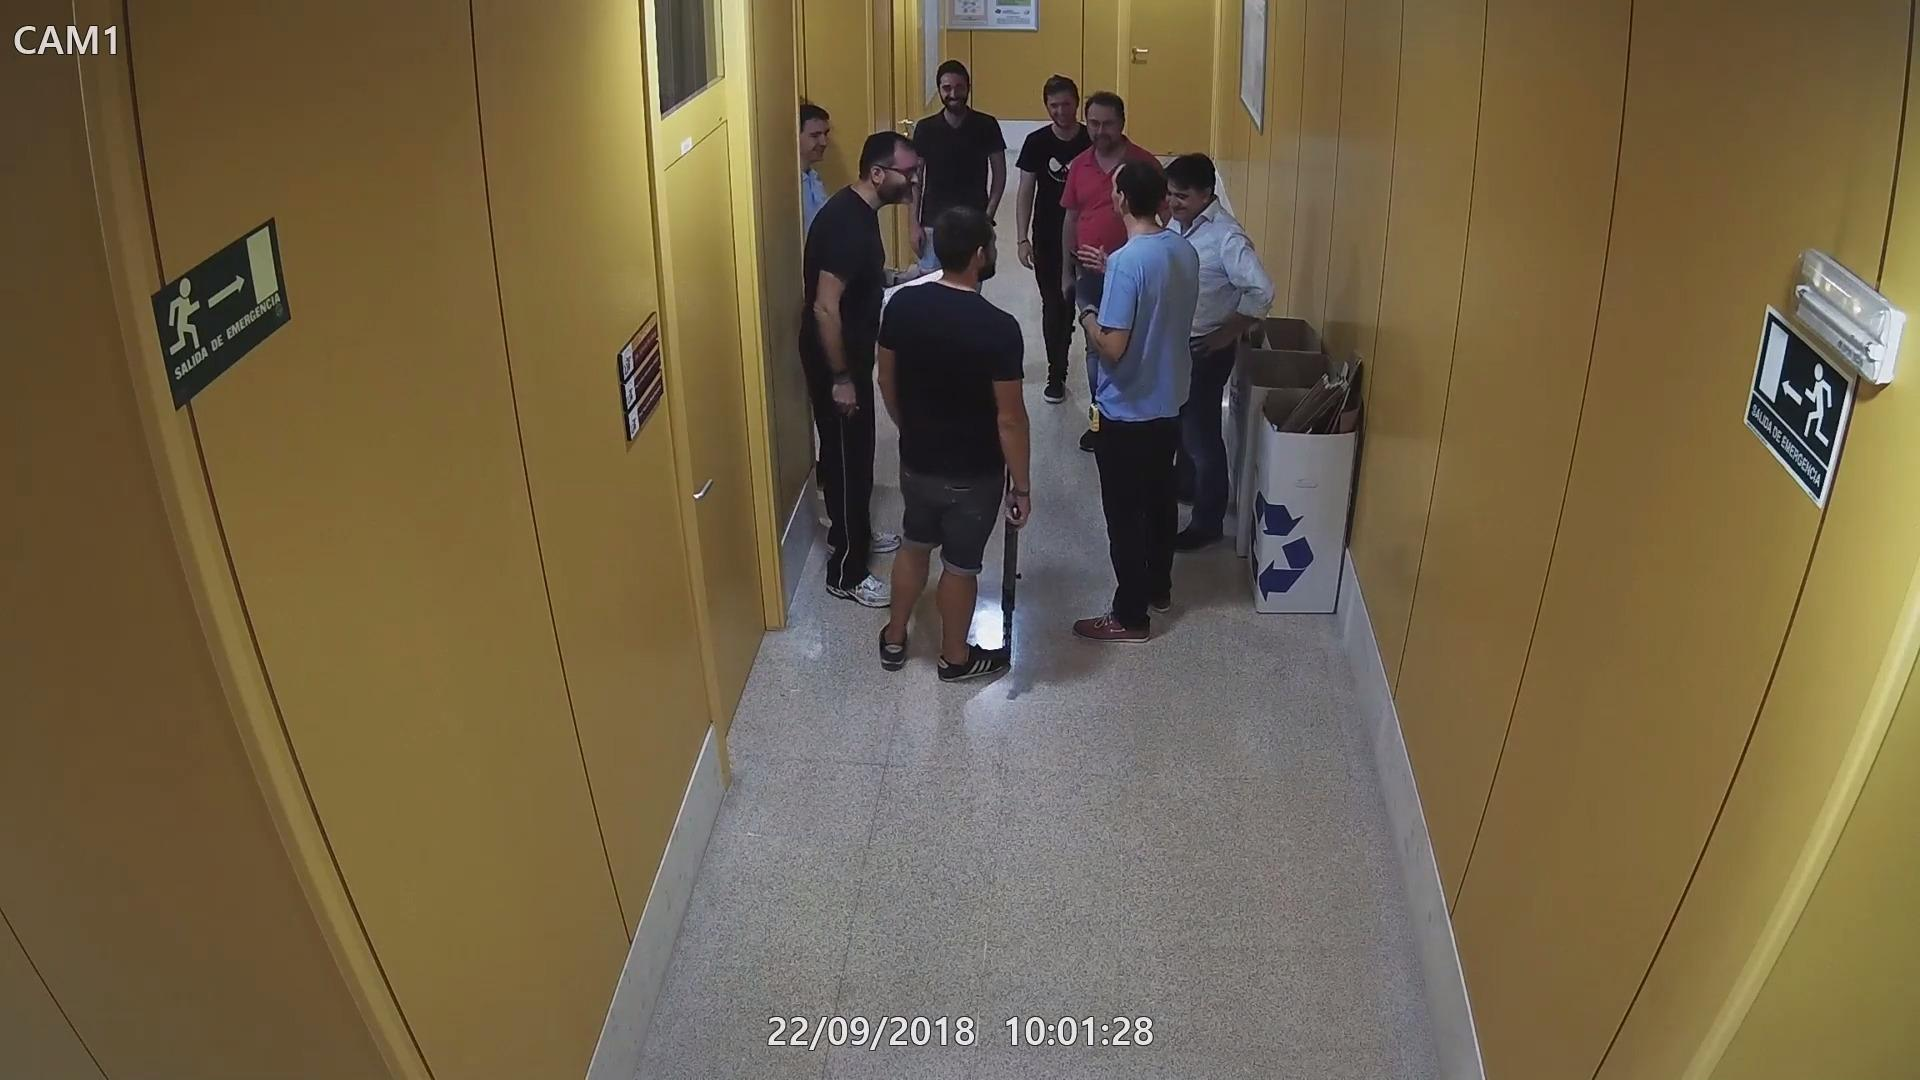Handgun: (1063, 245, 1091, 287)
